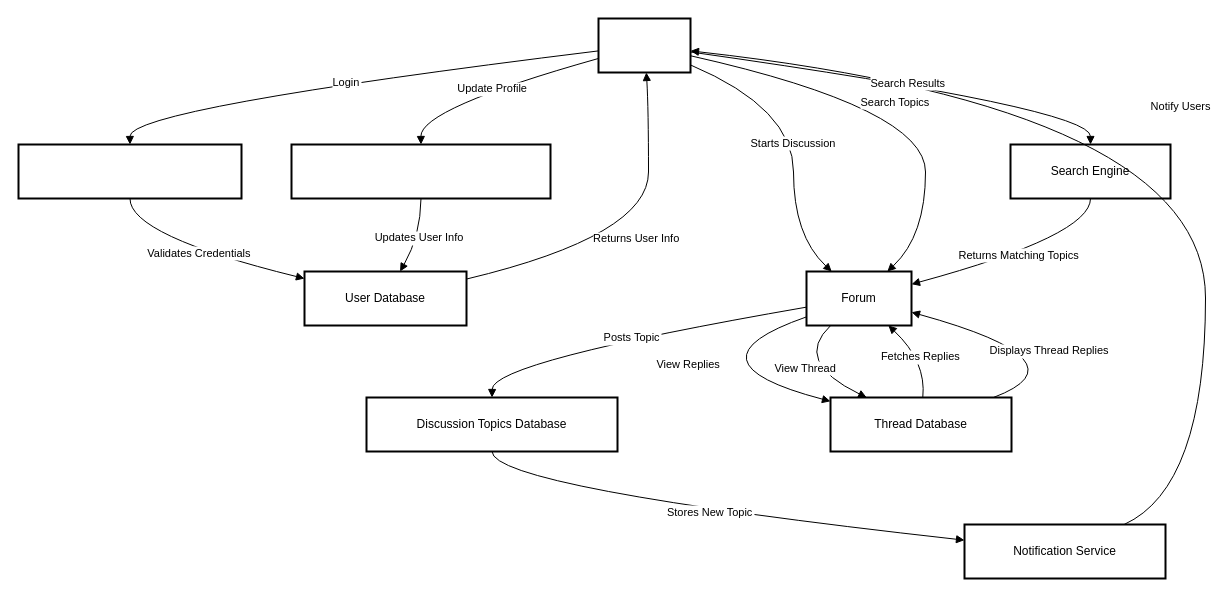
The diagram is 1229 pixels wide and 596 high, and some of its shapes have lost their labels. The shapes that lost their labels are listed below. From the top down, each one's centre as x and y in pixels, then its label:
At pixel 644 45: "User".
At pixel 129 171: "Authentication Service".
At pixel 420 171: "Profile Management Service".
